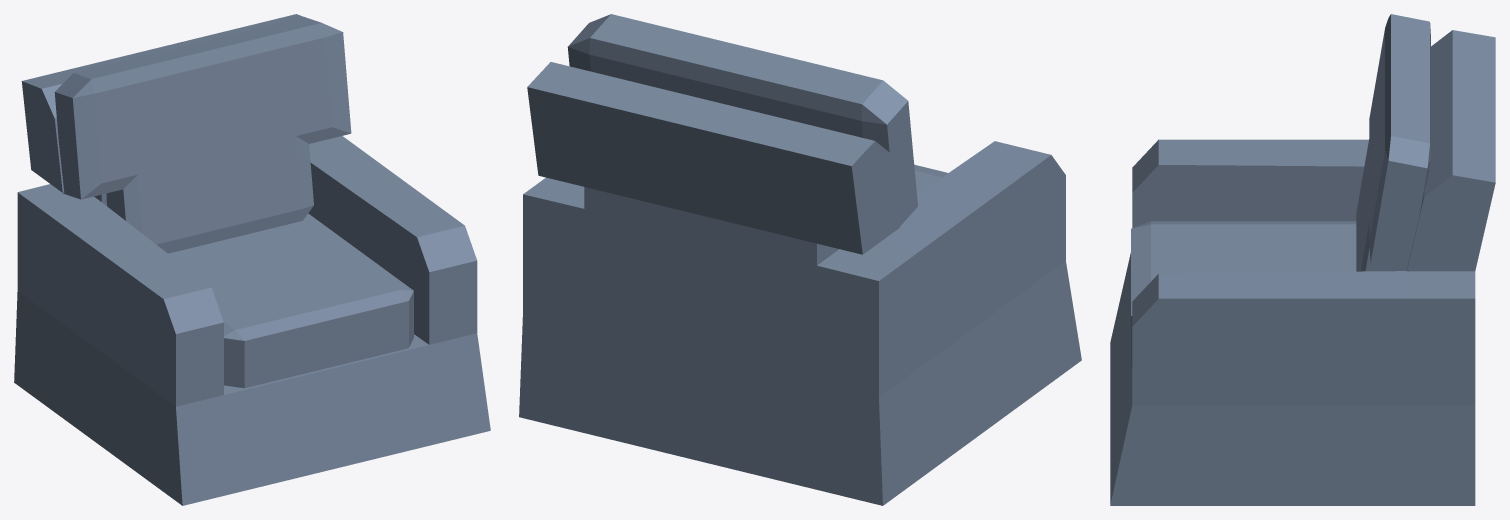
File: qt-sofa.glb
3 renders of one model, left to right at view 1: azimuth 30°, elevation 25°; view 2: azimuth 150°, elevation 25°; view 3: azimuth 270°, elevation 25°, orthographic. The views are drawn at different scales.
Parts seen in each view (by area): view 1: Sofa_Cube.021; view 2: Sofa_Cube.021; view 3: Sofa_Cube.021.
Boxes of the visible parts, left/top/right/bottom form: Sofa_Cube.021: left=14, top=14, right=490, bottom=505; Sofa_Cube.021: left=519, top=14, right=1081, bottom=505; Sofa_Cube.021: left=1110, top=14, right=1495, bottom=505.
Bounding box in the file's own units: 1 × 1 × 1.
